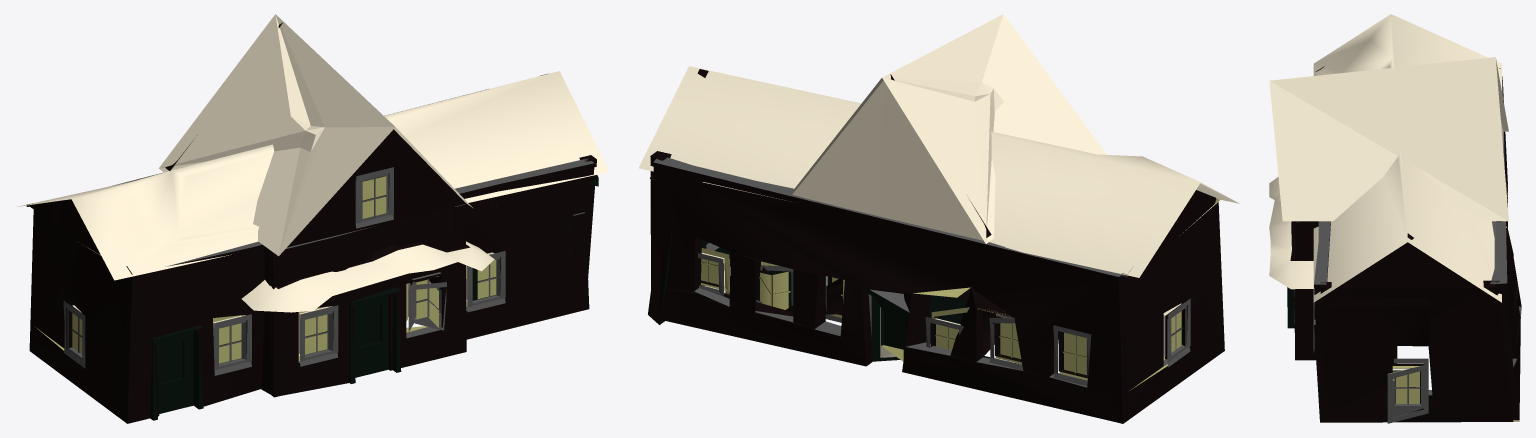
File: CasaEstado2 1.fbx
3 renders of one model, left to right at view 1: azimuth 30°, elevation 25°; view 2: azimuth 150°, elevation 25°; view 3: azimuth 270°, elevation 25°, orthographic. The views are drawn at different scales.
Parts seen in each view (by area): view 1: Plane001; view 2: Plane001; view 3: Plane001.
Boxes of the visible parts, bbox=[...] form: Plane001: bbox=[17, 14, 609, 423]; Plane001: bbox=[639, 14, 1239, 423]; Plane001: bbox=[1269, 14, 1521, 423].
Size of the model in its own units: 215 by 118 by 100.
